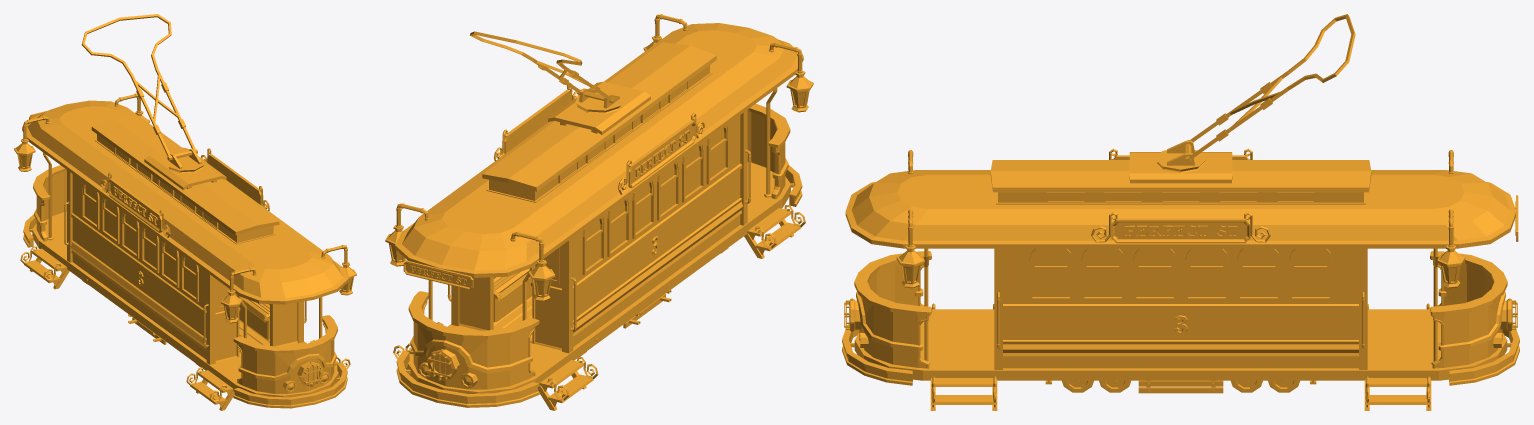
The model's file is tram-a-wagon-steampunk.fbx.
3 renders of one model, left to right at view 1: azimuth 30°, elevation 25°; view 2: azimuth 150°, elevation 25°; view 3: azimuth 270°, elevation 25°, orthographic. The views are drawn at different scales.
Parts seen in each view (by area): view 1: tram-a-wagon-steampunk-base, tram-a-wagon-steampunk-trolley-pole; view 2: tram-a-wagon-steampunk-base, tram-a-wagon-steampunk-trolley-pole; view 3: tram-a-wagon-steampunk-base, tram-a-wagon-steampunk-trolley-pole.
Part boxes in pixels (<box>): tram-a-wagon-steampunk-base: <box>14,93,356,410</box>; tram-a-wagon-steampunk-trolley-pole: <box>81,14,197,160</box>; tram-a-wagon-steampunk-base: <box>385,14,813,410</box>; tram-a-wagon-steampunk-trolley-pole: <box>470,31,615,103</box>; tram-a-wagon-steampunk-base: <box>842,140,1519,410</box>; tram-a-wagon-steampunk-trolley-pole: <box>1185,14,1355,163</box>.
Bounding box in the file's own units: 3.18 × 5.68 × 10.11.
